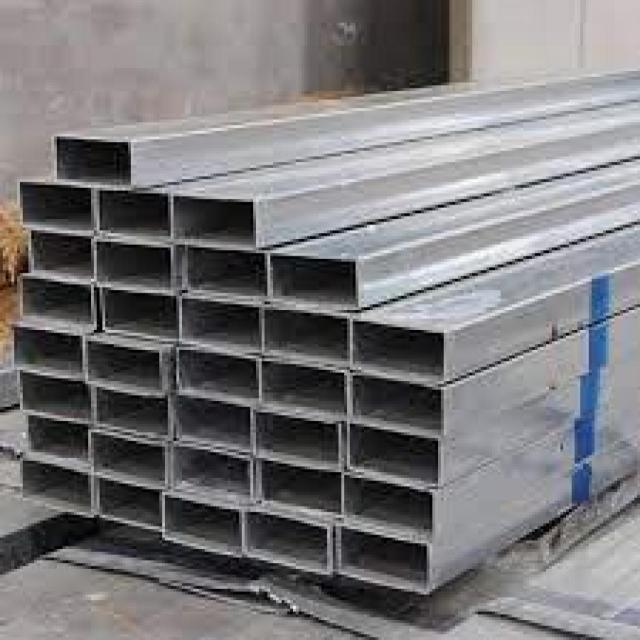pipe: (346, 316, 454, 391), (334, 522, 434, 597), (342, 466, 439, 541), (346, 368, 451, 437), (344, 420, 444, 491), (256, 300, 353, 371), (257, 353, 351, 424), (240, 505, 334, 576), (264, 252, 364, 315), (80, 332, 171, 400), (176, 241, 270, 306), (87, 378, 178, 444), (252, 407, 346, 470), (177, 293, 268, 358), (174, 345, 265, 410), (161, 491, 246, 560), (167, 189, 264, 249), (96, 280, 184, 346), (255, 454, 343, 520), (171, 390, 260, 455), (91, 235, 180, 298), (168, 441, 254, 504), (17, 270, 97, 336), (87, 427, 170, 490), (53, 131, 136, 194), (95, 185, 178, 248), (7, 323, 93, 383), (13, 178, 99, 238), (17, 365, 94, 428), (19, 455, 96, 518), (27, 225, 101, 285), (93, 472, 164, 532), (26, 410, 95, 470)
